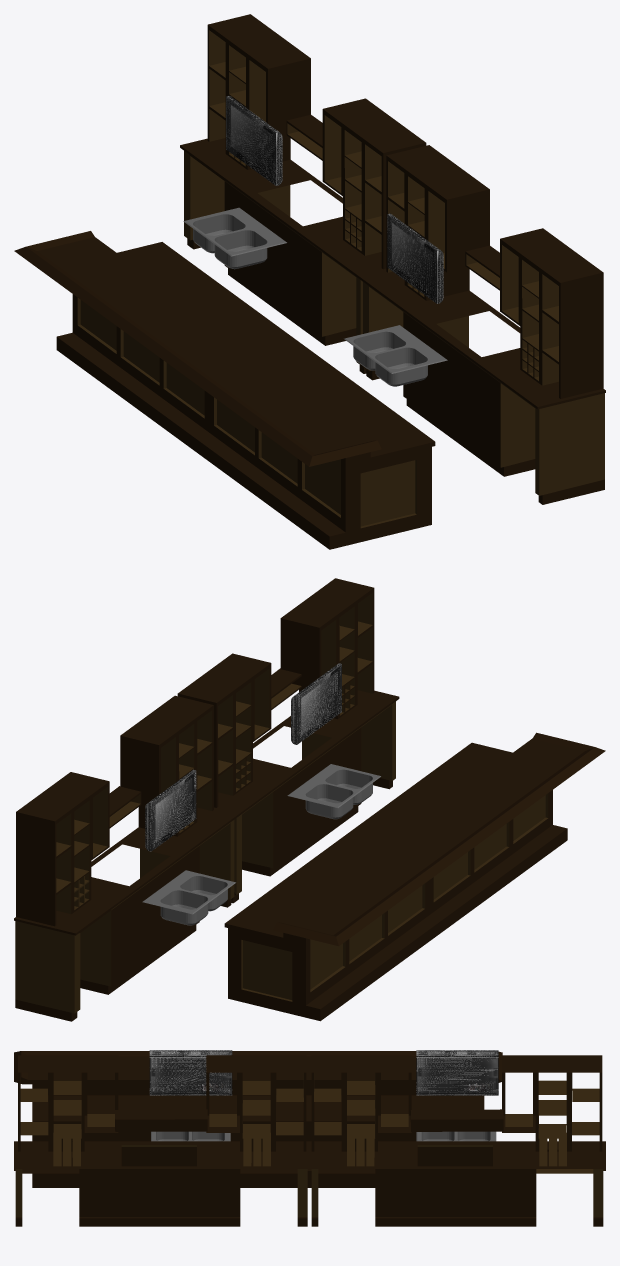
File: bar.dae
3 views of the same model, one above another, from view 1: azimuth 30°, elevation 25°; view 2: azimuth 150°, elevation 25°; view 3: azimuth 270°, elevation 25° (orthographic). The views are drawn at different scales.
Visible parts, largest first — view 1: bar, unterbau.1, unterbau, r, l.1, l, r.1, waschbecken, waschbecken.1, Fernseher_Front, Fernseher_Front.1, mittelstueck.1 (+1 smaller); view 2: bar, unterbau, unterbau.1, l.1, r, r.1, l, waschbecken.1, waschbecken, Fernseher_Front.1, Fernseher_Front, mittelstueck.1 (+1 smaller); view 3: bar, unterbau, unterbau.1, l.1, r.1, l, r, Fernseher_Ruecken.1, Fernseher_Ruecken, mittelstueck.1, mittelstueck, waschbecken.1 (+1 smaller).
Boxes of the visible parts, x1,y1,x2,y2 form: bar: (14,231,435,549); unterbau.1: (358,269,605,504); unterbau: (180,138,385,373); r: (500,228,603,398); l.1: (207,14,310,169); l: (386,145,489,300); r.1: (322,98,426,269); waschbecken: (344,325,447,386); waschbecken.1: (183,207,286,269); Fernseher_Front: (387,214,436,303); Fernseher_Front.1: (226,96,275,185); mittelstueck.1: (286,114,322,160); bar: (224,732,605,1021); unterbau: (14,807,237,1021); unterbau.1: (214,690,399,903); l.1: (16,772,109,926); r: (280,578,374,719); r.1: (120,695,213,836); l: (177,653,271,807); waschbecken.1: (142,870,235,925); waschbecken: (287,764,380,819); Fernseher_Front.1: (151,771,196,851); Fernseher_Front: (297,664,341,744); mittelstueck.1: (109,786,141,828); bar: (14,1051,502,1187); unterbau: (310,1141,605,1226); unterbau.1: (14,1141,309,1226); l.1: (502,1055,602,1166); r.1: (311,1055,411,1166); l: (206,1055,306,1166); r: (18,1055,118,1166); Fernseher_Ruecken.1: (416,1050,498,1095); Fernseher_Ruecken: (149,1050,232,1095); mittelstueck.1: (410,1109,503,1131); mittelstueck: (115,1109,207,1131); waschbecken.1: (416,1131,496,1141).
Size of the model in its own units: 55.55 by 39.01 by 116.
Materials: 8 (4 with a texture image).
